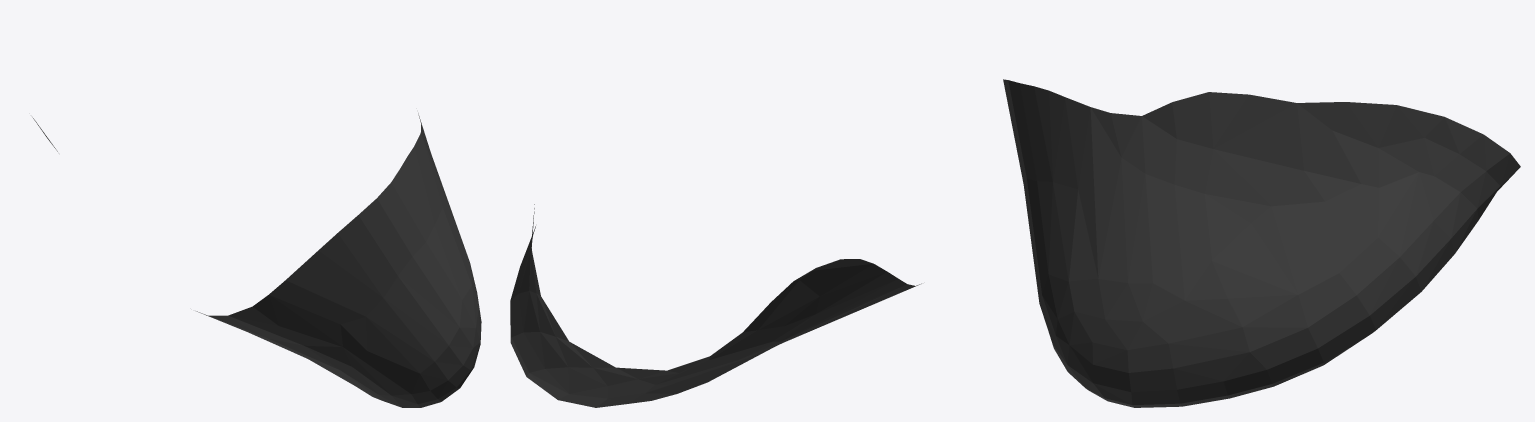
The model's file is Ulna_process_coronoid_lateral.glb.
The picture shows the model from 3 angles, left to right: view 1: azimuth 30°, elevation 25°; view 2: azimuth 150°, elevation 25°; view 3: azimuth 270°, elevation 25°; orthographic projection. The views are drawn at different scales.
Parts seen in each view (by area): view 1: Ulna_process_coronoid_lateral; view 2: Ulna_process_coronoid_lateral; view 3: Ulna_process_coronoid_lateral.
Part boxes in pixels (box(x1,y1,x2,y2)): Ulna_process_coronoid_lateral: box(32, 113, 481, 407); Ulna_process_coronoid_lateral: box(510, 204, 921, 407); Ulna_process_coronoid_lateral: box(1003, 79, 1520, 407).
Bounding box in the file's own units: 0.0665 × 0.0592 × 0.0878.
Materials: 1 (1 with a texture image).
